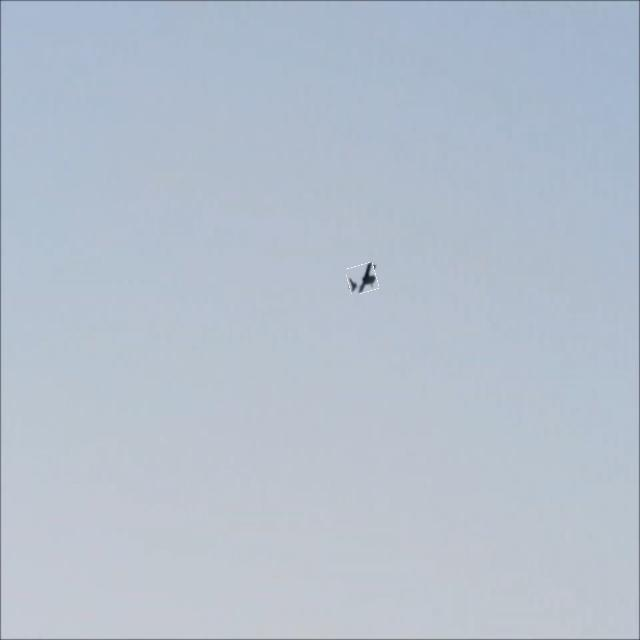UAV: (338, 248, 404, 339)
